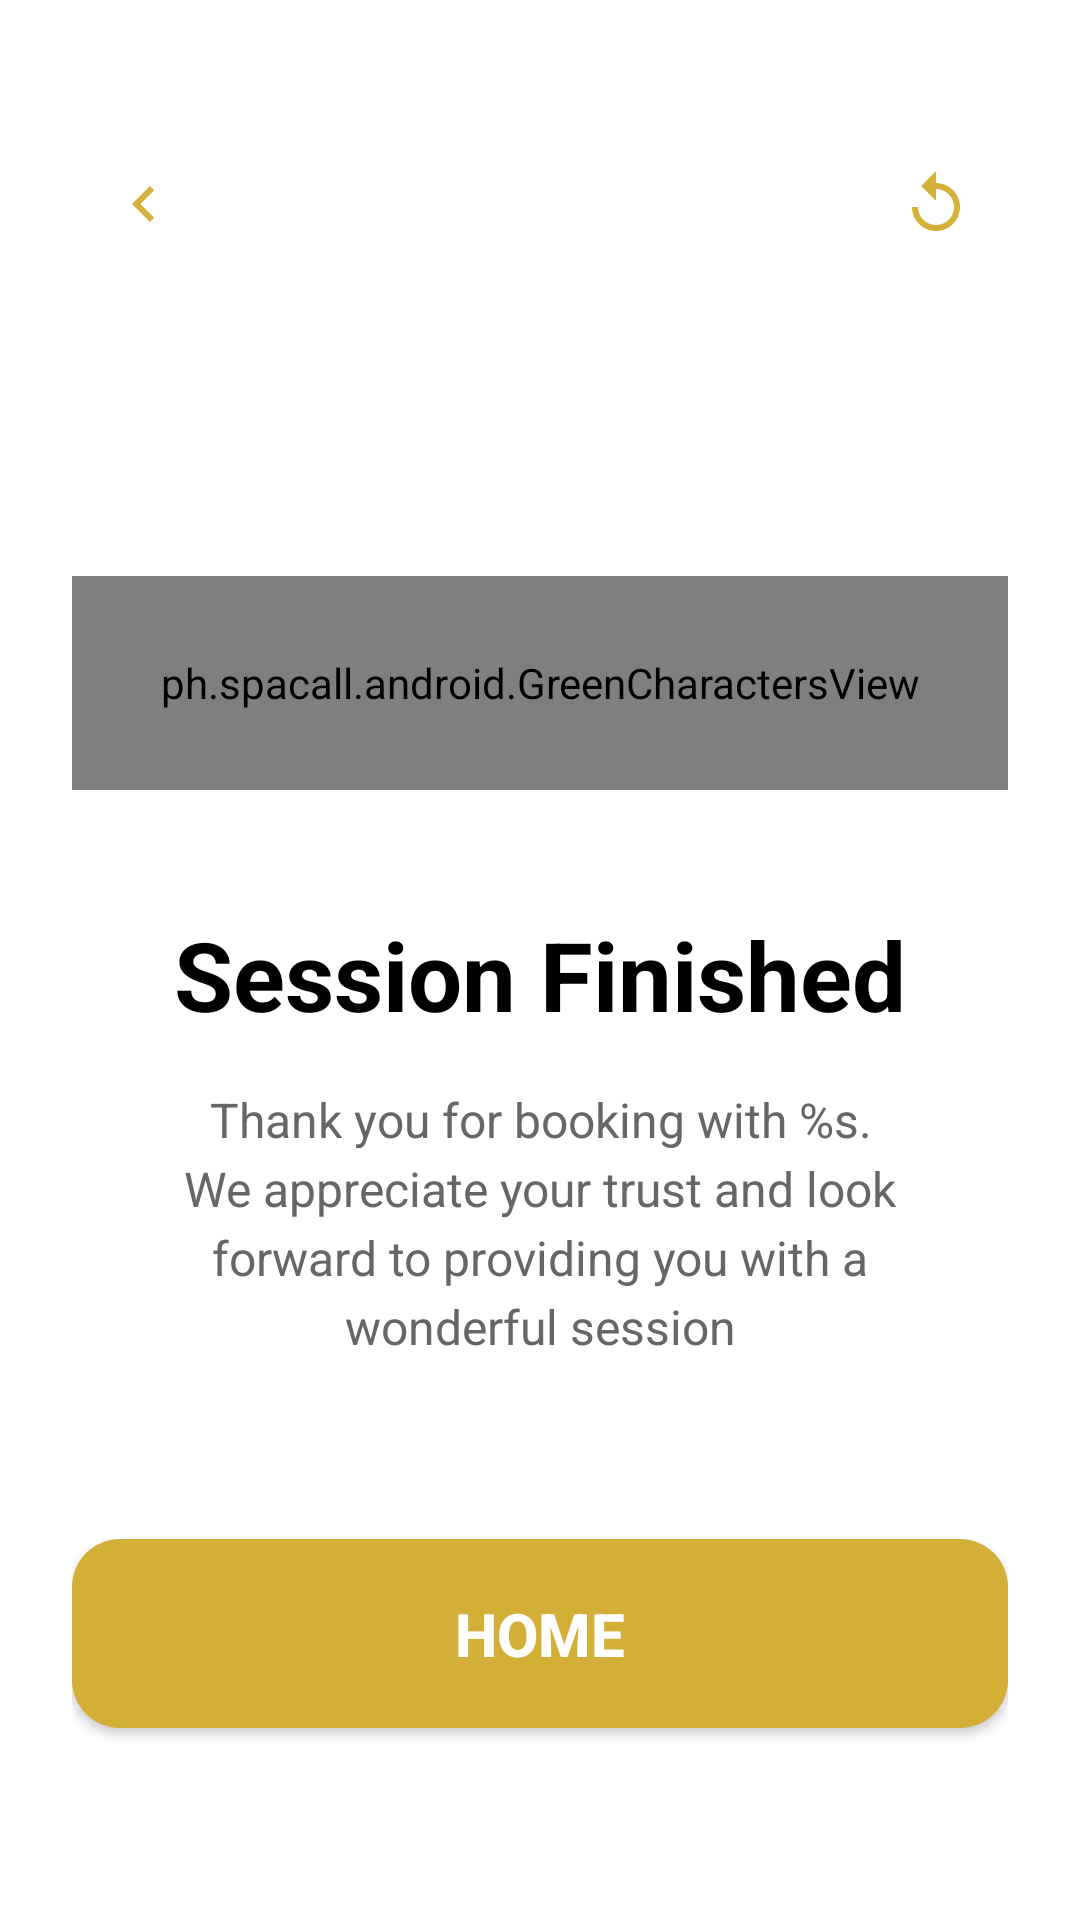

Icons on this 1080x1920 Android screen, each with its box as {"x1": x1, "y1": y1, "x2": x2, "y2": y2}:
Back: {"x1": 132, "y1": 186, "x2": 154, "y2": 222}
Reset: {"x1": 912, "y1": 171, "x2": 960, "y2": 231}
